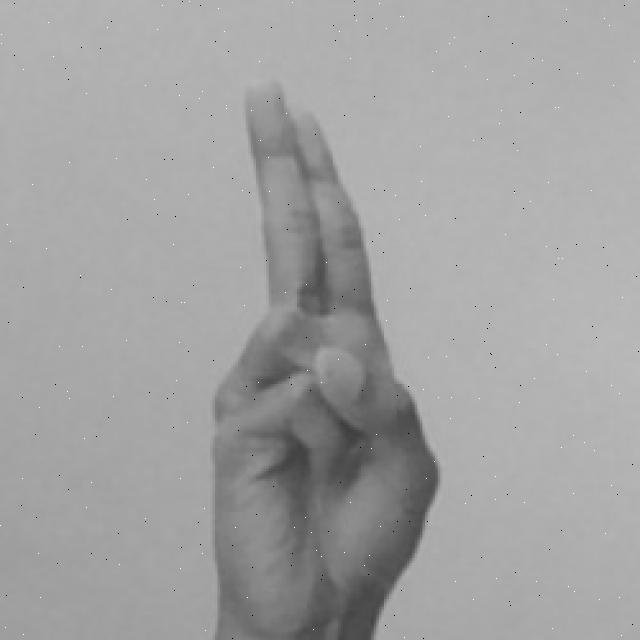U: (196, 74, 444, 640)
